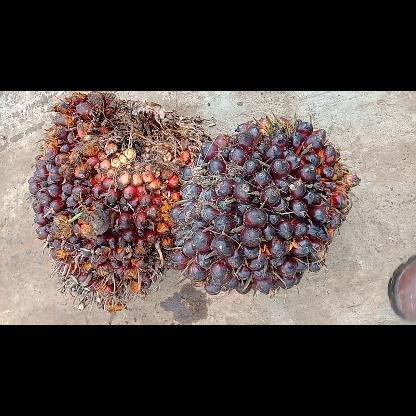TBS masak: (28, 90, 208, 310)
TBS mentah: (169, 114, 359, 294)
